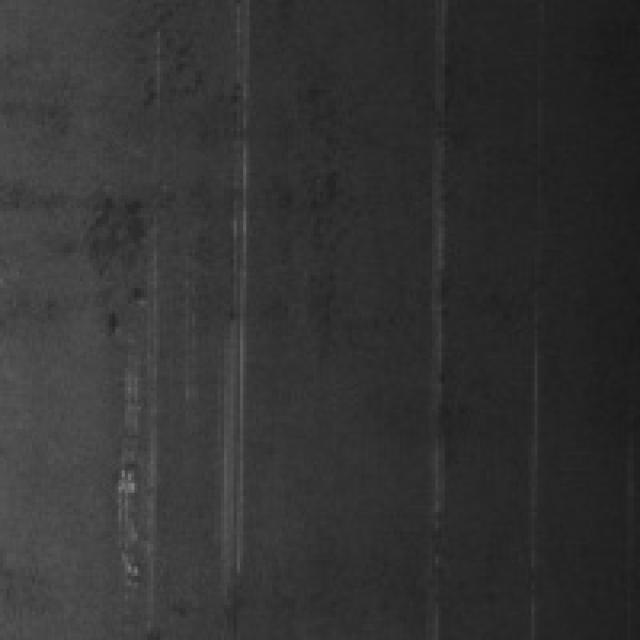scratches: (413, 22, 448, 592), (208, 115, 250, 586), (106, 288, 166, 611)
